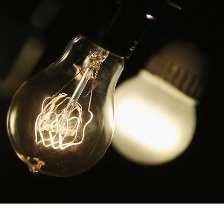light_bulb: (2, 17, 131, 183), (103, 31, 208, 167)
